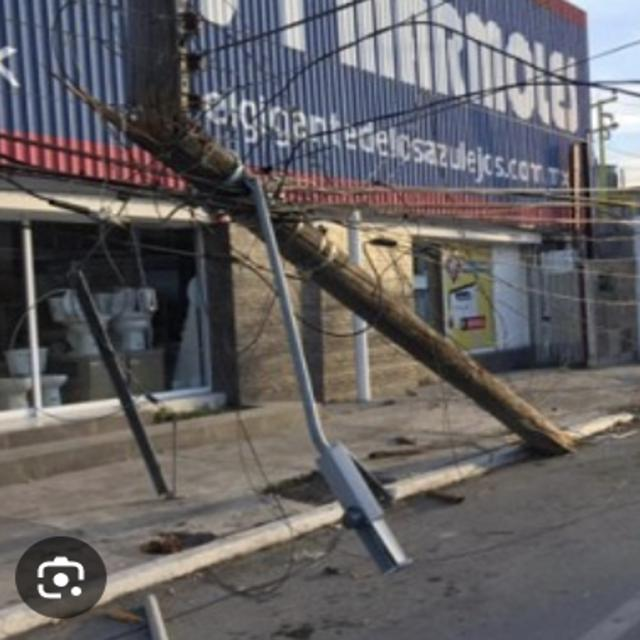Inclined Pole: (41, 0, 585, 577)
